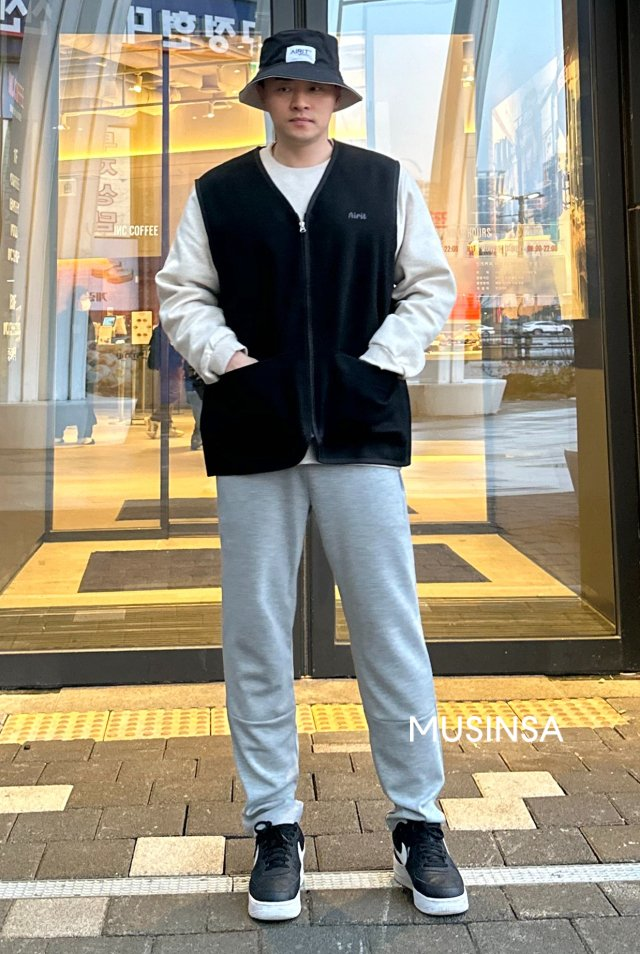Buckethat: (235, 26, 364, 112)
Shoes: (246, 818, 472, 920)
Training pants: (211, 445, 452, 826)
Vest: (188, 139, 416, 474)
